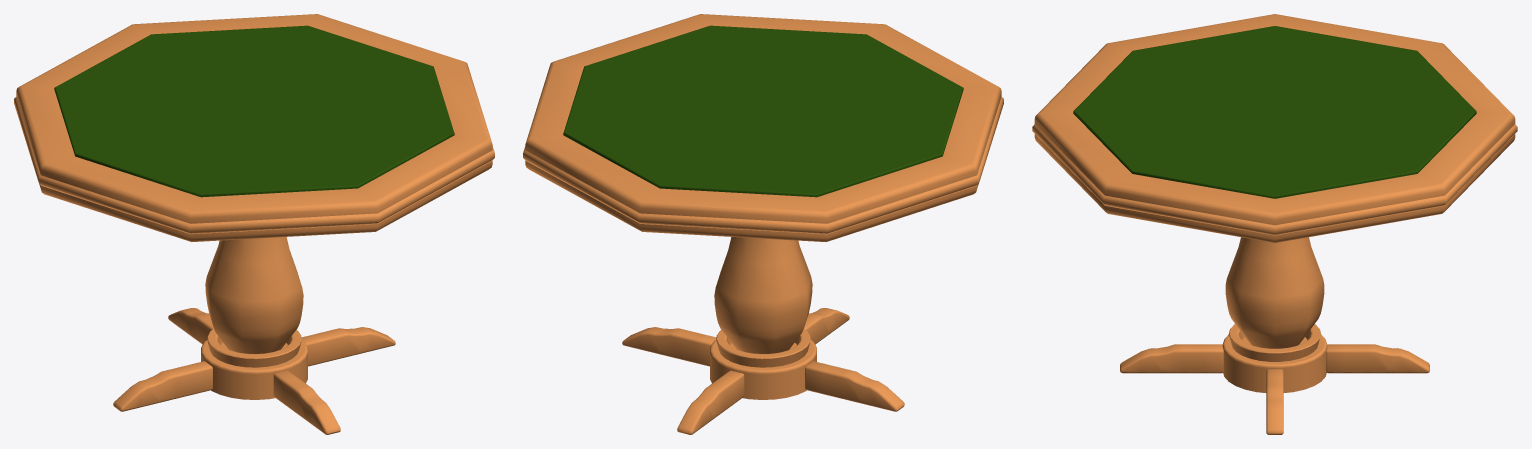
File: CardTable.fbx
3 renders of one model, left to right at view 1: azimuth 30°, elevation 25°; view 2: azimuth 150°, elevation 25°; view 3: azimuth 270°, elevation 25°, orthographic. The views are drawn at different scales.
Visible parts, largest first — view 1: Card_Table; view 2: Card_Table; view 3: Card_Table.
Boxes of the visible parts, <box> form: Card_Table: <box>14,14,494,434</box>; Card_Table: <box>523,14,1003,434</box>; Card_Table: <box>1032,14,1517,434</box>.
Bounding box in the file's own units: 928 × 550 × 928.
